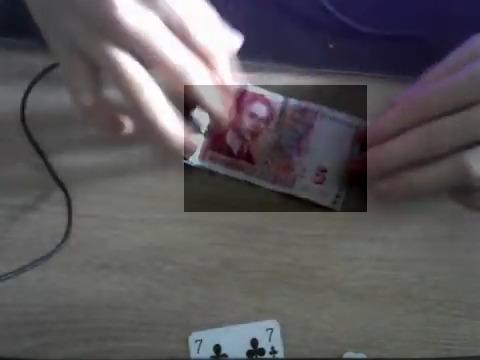5leva: (184, 85, 367, 212)
